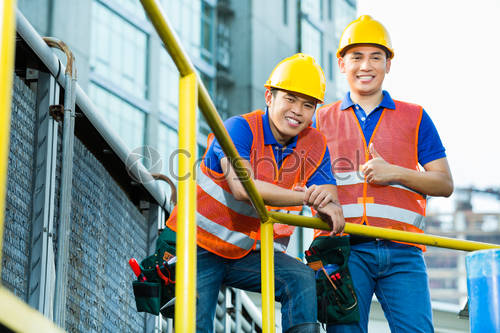With Helmet: (260, 49, 329, 139), (334, 13, 398, 97)
